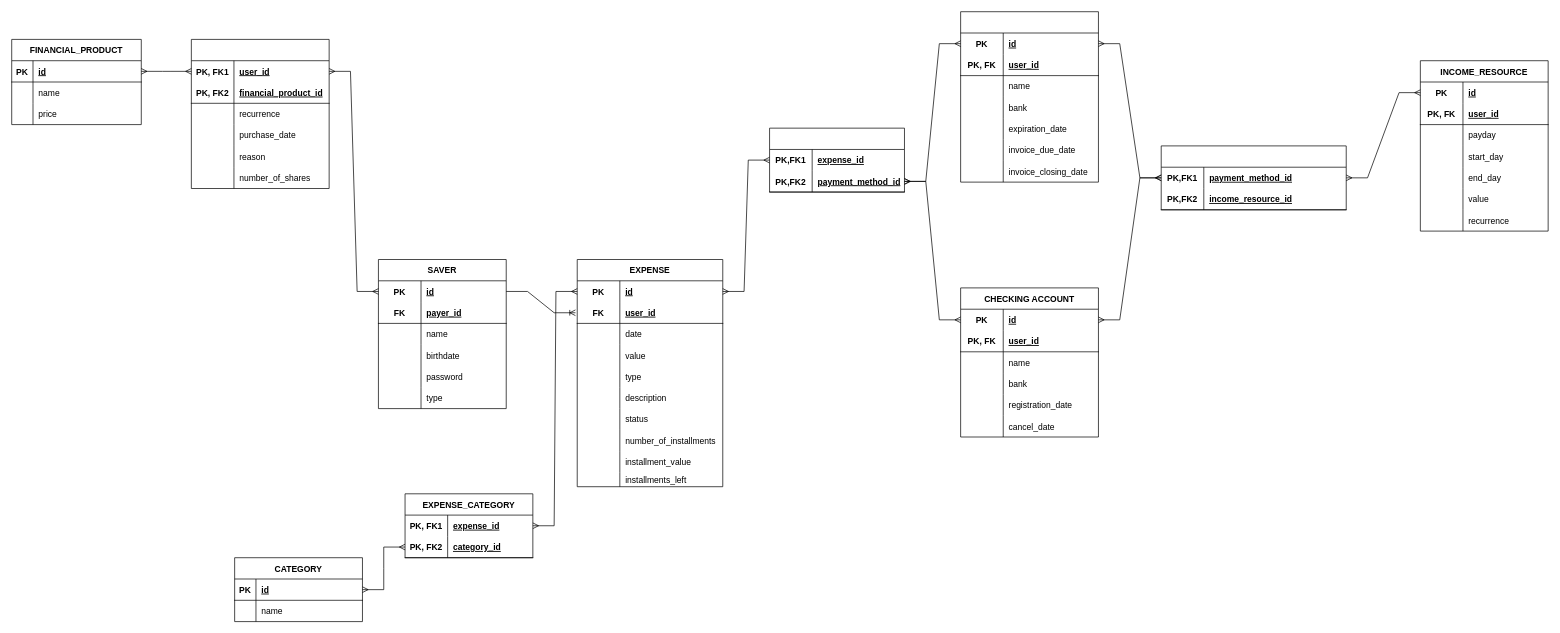
The diagram is 1560 pixels wide and 633 high, and some of its shapes have lost their labels. The shapes that lost their labels are listed below. From the top down, each one's box as (x1, y1, x2, y2) in pixels, then its label:
(191, 39, 329, 189): USER_FINANCIAL_PRODUCT
(960, 11, 1098, 182): CREDIT_CARD
(769, 127, 904, 192): EXPENSE_PAYMENT_METHOD
(1160, 145, 1346, 210): PAYMENT_METHOD_INCOME_RESOURCE
